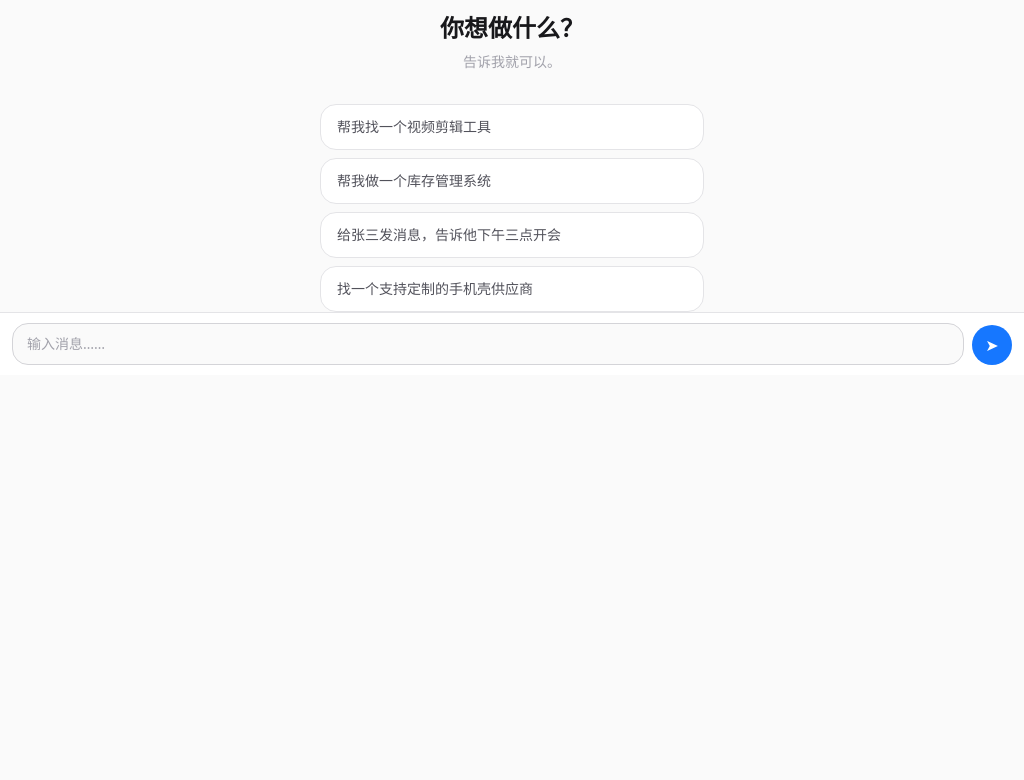
Test: ChatHomeScreen (chat-first entry) › offers_a_creation_plan_and_generates_an_app_on_confirm
Expected: the text "你想做什么？" is shown, [440,12,584,44]
Click the button "帮我做一个库存管理系统".
click(414, 180)  # box [320,158,704,204]
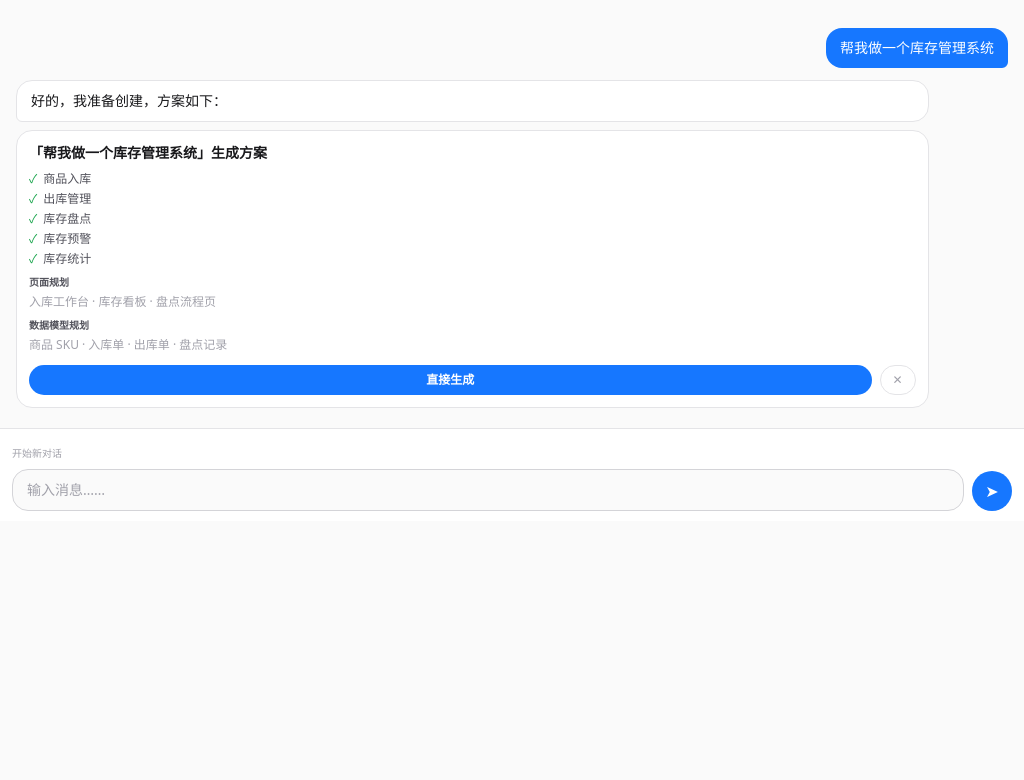
Now the text "好的，我准备创建，方案如下：" is shown, box [16,80,929,122]
Now the list item "库存盘点" is shown, box [43,210,91,227]
Click the button "直接生成".
click(450, 380)  # box [29,365,872,395]
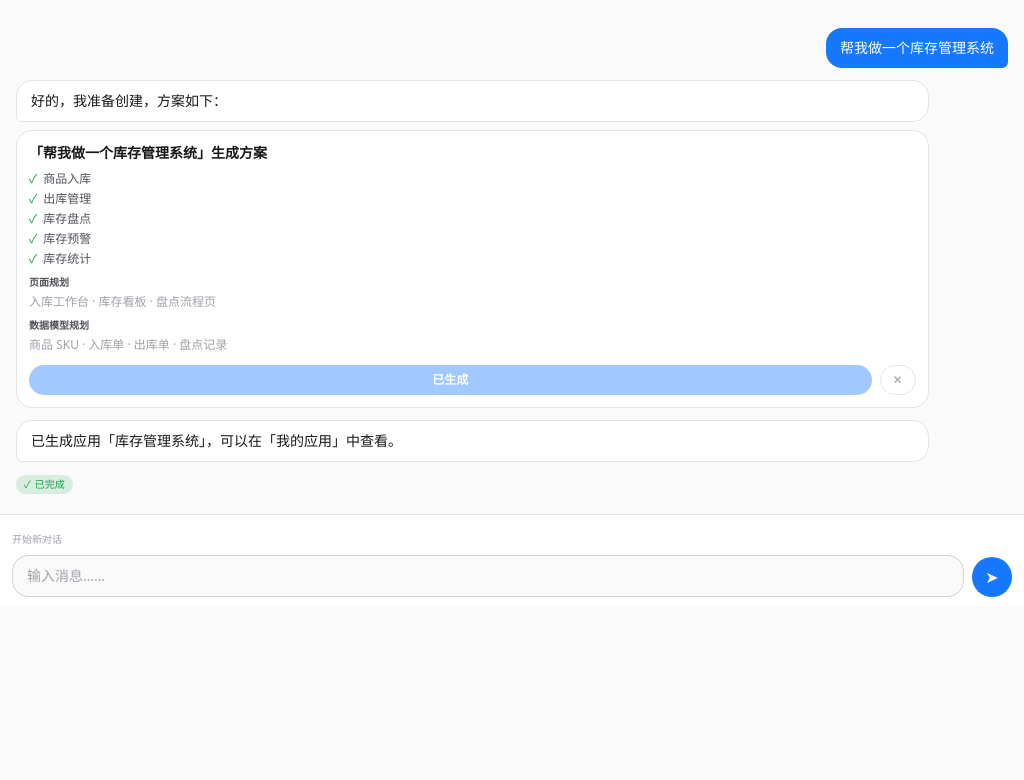
Now the text "已生成应用「库存管理系统」，可以在「我的应用」中查看。" is shown, box [16,420,929,462]
